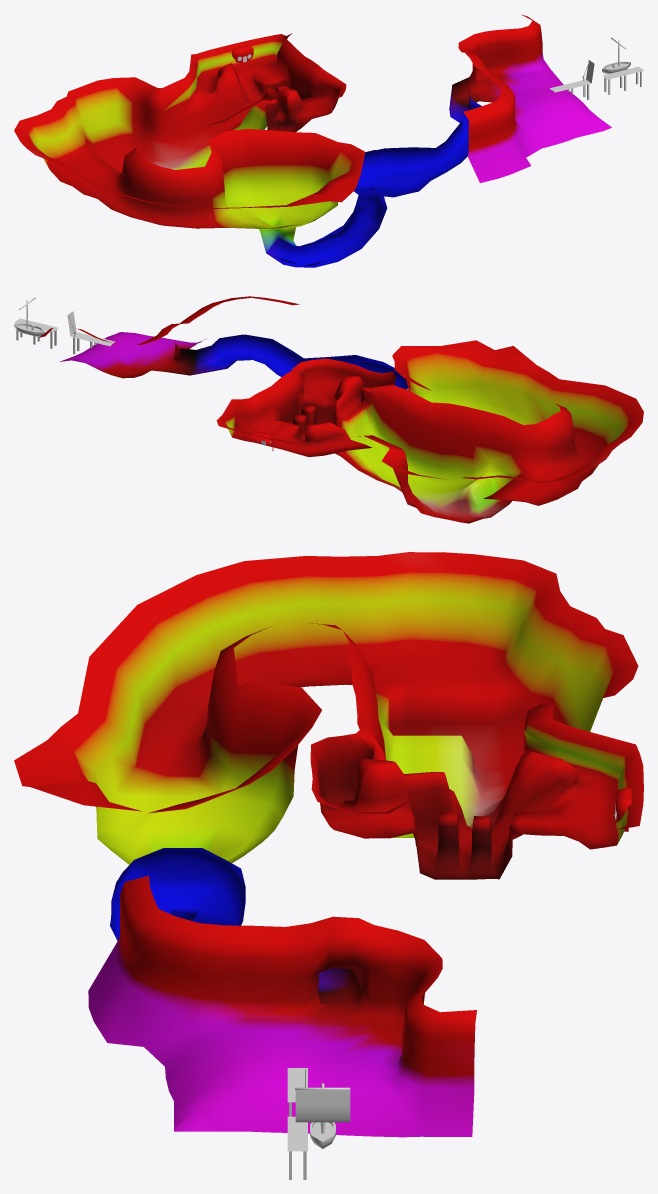
The model's file is TutorialLevelNew.glb.
3 renders of one model, top to bottom at view 1: azimuth 30°, elevation 25°; view 2: azimuth 150°, elevation 25°; view 3: azimuth 270°, elevation 25°, orthographic. The views are drawn at different scales.
Visible parts, largest first — view 1: Plane, Plane.001, Pier.002; view 2: Plane, Plane.001, Pier.002, Boat, Pier; view 3: Plane, Plane.001, Boat, Pier.002.
Part boxes in pixels (x1=…): Plane: x1=14, y1=33, x2=481, y2=267; Plane.001: x1=458, y1=14, x2=611, y2=182; Pier.002: x1=602, y1=66, x2=643, y2=94; Plane: x1=166, y1=334, x2=643, y2=523; Plane.001: x1=39, y1=296, x2=299, y2=378; Pier.002: x1=14, y1=318, x2=58, y2=348; Boat: x1=14, y1=297, x2=45, y2=336; Pier: x1=71, y1=332, x2=114, y2=354; Plane: x1=14, y1=552, x2=643, y2=1005; Plane.001: x1=88, y1=875, x2=476, y2=1137; Boat: x1=295, y1=1083, x2=350, y2=1149; Pier.002: x1=287, y1=1116, x2=307, y2=1179.
Bounding box in the file's own units: 107 × 24.69 × 53.08.
